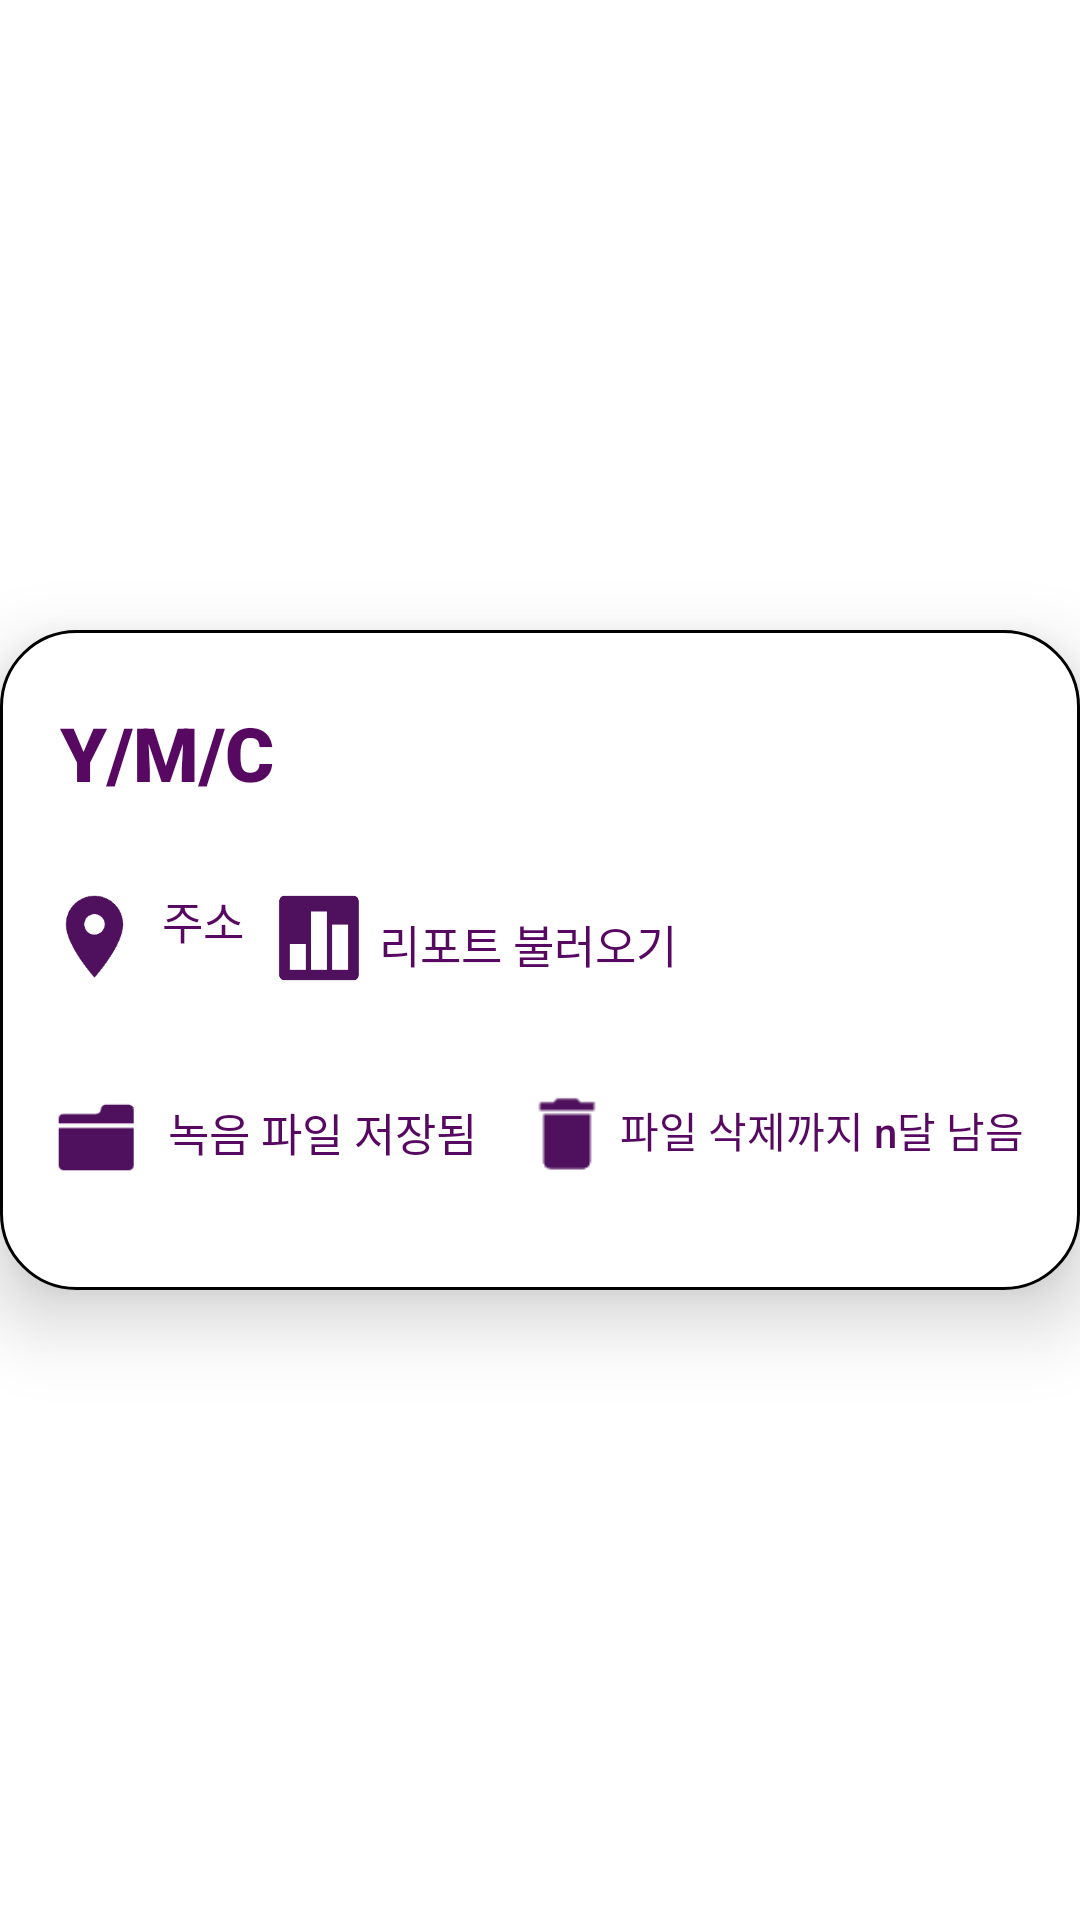

Icon bounding boxes for this 1080*1920 phone screenshot, format (x1, y1, x2, y2):
delete file: (538, 1098, 596, 1170)
entry screen chart: (279, 895, 359, 981)
location: (65, 895, 124, 978)
